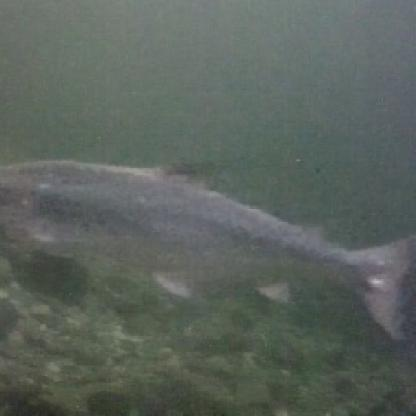salmon: (0, 156, 415, 347)
